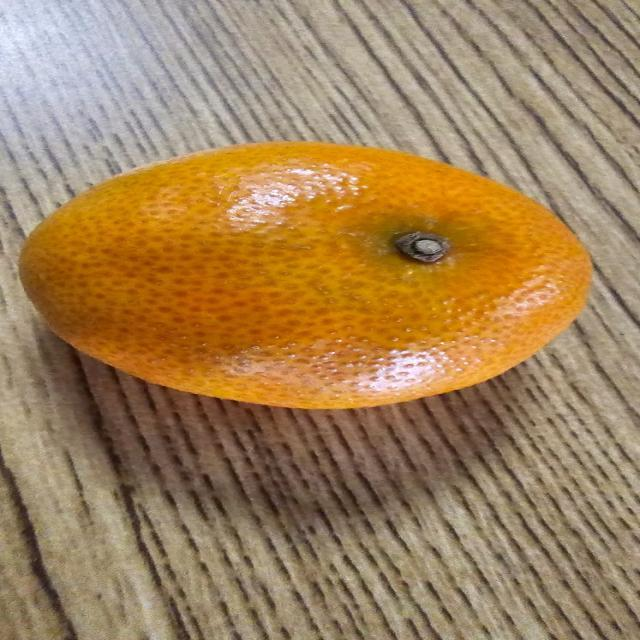Jeruk Mandarin: (13, 138, 615, 416)
